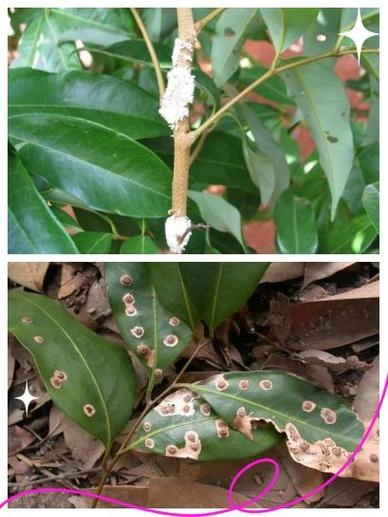Anthracnose: (135, 379, 352, 475), (15, 318, 100, 438), (84, 276, 178, 365)
